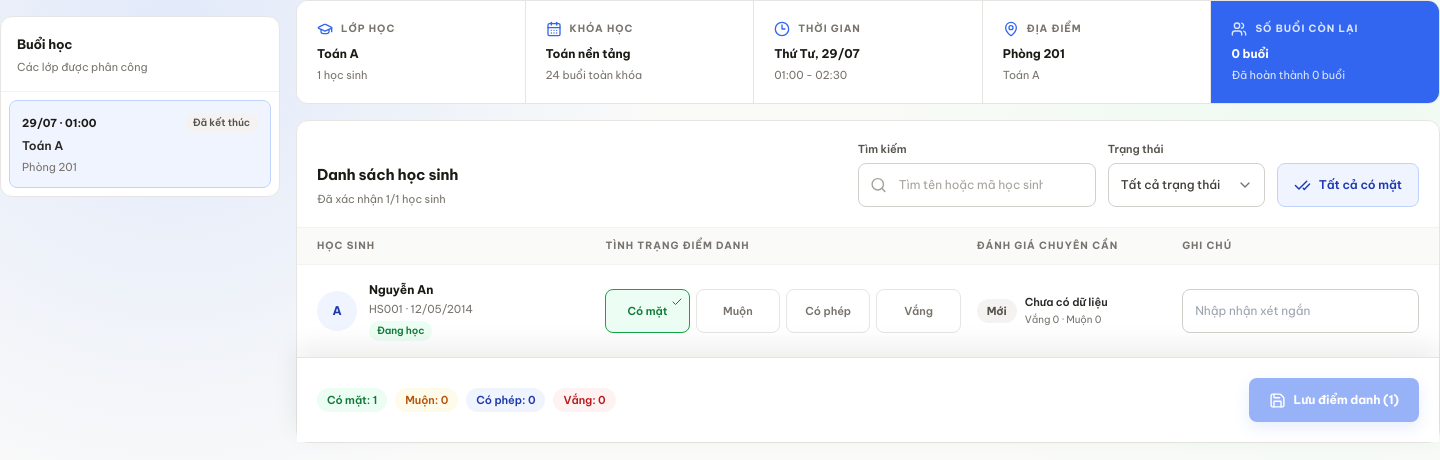
Test: AttendanceMarkPanel mobile workflow › changes a status, saves it, and clears stale success feedback after another edit
Step 1. Click the button with aria-label "Đi muộn: Nguyễn An" → (738,311), box [696, 289, 780, 333]
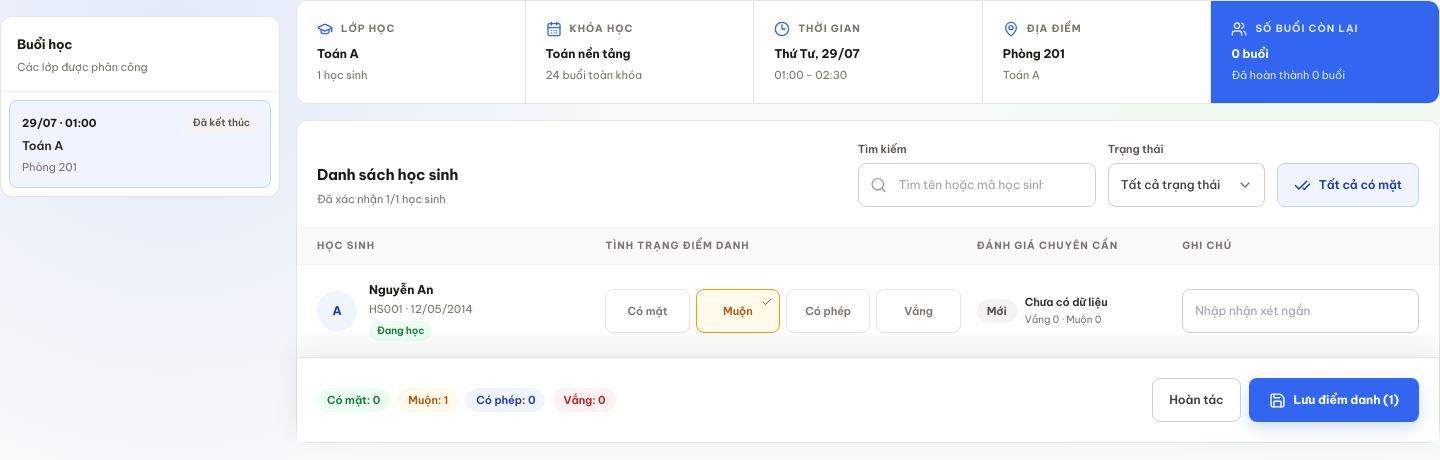
Expected: the element "Lưu điểm danh (1)" is shown, [297, 357, 1439, 442]
Expected: the button with aria-label "Đi muộn: Nguyễn An" is pressed, [696, 289, 780, 333]
Step 2. Click the button "Lưu điểm danh (1)" → (1334,400), box [1248, 378, 1419, 422]
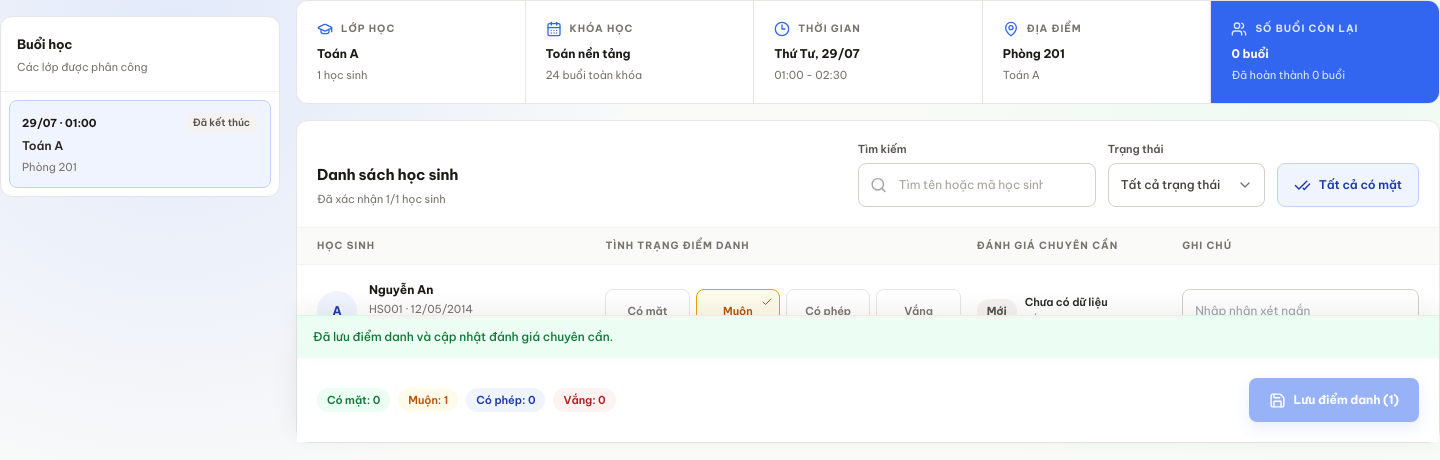
Expected: the message "Đã lưu điểm danh và cập nhật đánh giá chuyên cần." is shown, [297, 315, 1439, 358]
Step 3. Type "Đến trễ 10 phút" into the field named "Ghi chú" → (1301,311), box [1182, 289, 1419, 333]
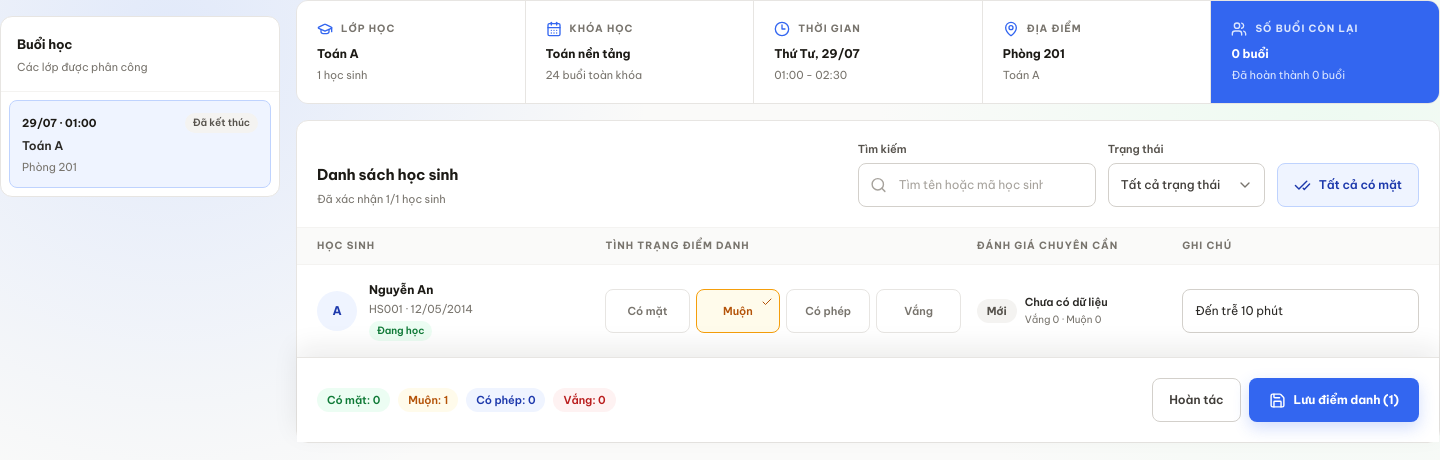
Expected: the message "Đã lưu điểm danh và cập nhật đánh giá chuyên cần." is gone
